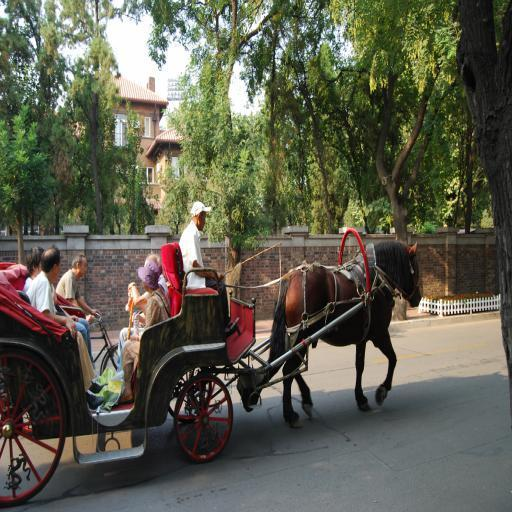horse: (268, 236, 421, 431)
